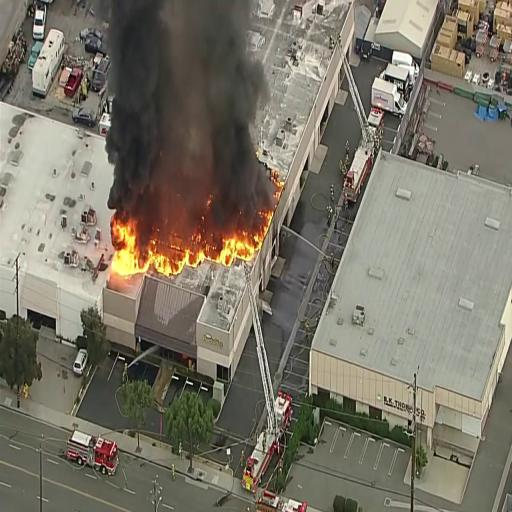fire: (210, 226, 258, 286), (108, 230, 144, 275)
smoke: (113, 0, 159, 225), (212, 25, 262, 203)
